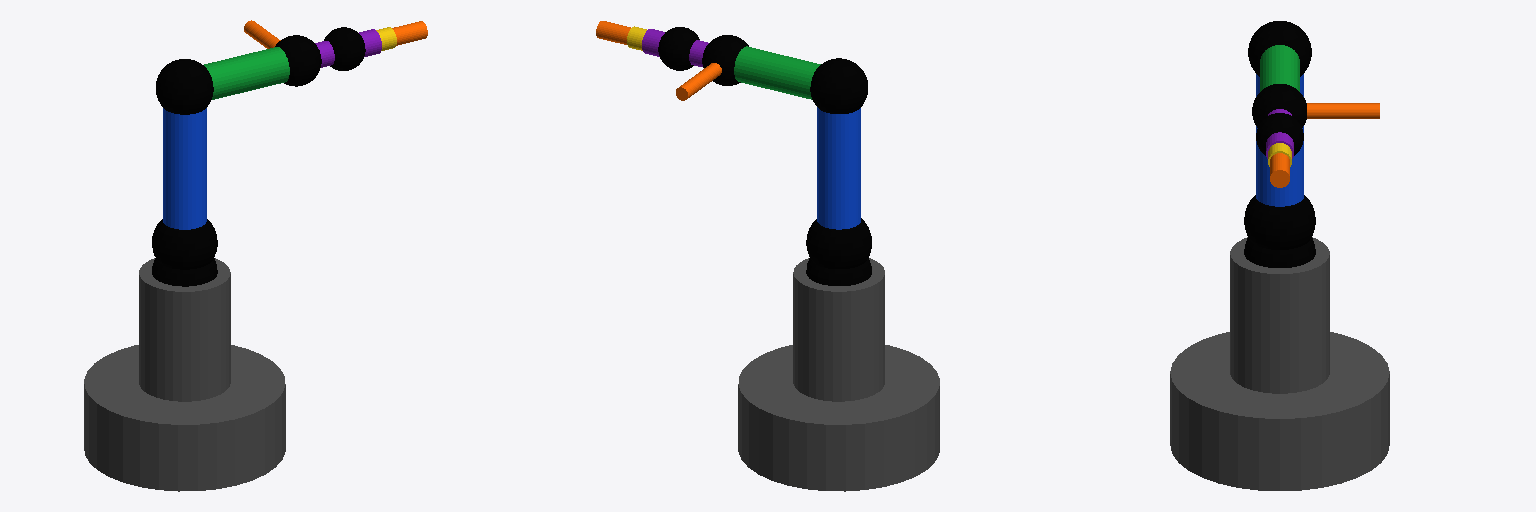
URDF robot description (robot_arm_simple_6axis):
<?xml version="1.0"?>
<robot name="robot_arm_simple_6axis">
  <!--
    Simple visualization model for the current forward-kinematics step.

    Units: meters, radians.
    Coordinate frame:
      X: forward from the base
      Y: left
      Z: up

    Measured dimensions:
      L0 = 0.106 m  base frame to shoulder pitch axis
      L1 = 0.111 m  shoulder pitch axis to elbow pitch axis
      L2 = 0.070 m  elbow pitch axis to wrist reference point
      L3 = 0.080 m  wrist reference point to tool tip, provisional

    Zero posture:
      shoulder-to-elbow link points along +Z
      elbow-to-wrist link points along +X

    Motor angle mapping used in tools/fk_3axis.py:
      base_yaw      = +ID1
      shoulder_pitch = +ID2
      upper_arm_roll = -ID6
      elbow_pitch    = -ID3
      elbow_roll     = -ID4
      wrist_pitch    = +ID5
  -->

  <material name="base_gray">
    <color rgba="0.35 0.35 0.35 1.0"/>
  </material>
  <material name="upper_arm_blue">
    <color rgba="0.1 0.35 0.9 1.0"/>
  </material>
  <material name="forearm_green">
    <color rgba="0.1 0.65 0.25 1.0"/>
  </material>
  <material name="tool_orange">
    <color rgba="1.0 0.45 0.05 1.0"/>
  </material>
  <material name="roll_purple">
    <color rgba="0.55 0.15 0.75 1.0"/>
  </material>
  <material name="wrist_yellow">
    <color rgba="0.95 0.80 0.10 1.0"/>
  </material>
  <material name="joint_black">
    <color rgba="0.03 0.03 0.03 1.0"/>
  </material>

  <link name="base_link">
    <visual>
      <origin xyz="0 0 0.02" rpy="0 0 0"/>
      <geometry>
        <cylinder radius="0.055" length="0.04"/>
      </geometry>
      <material name="base_gray"/>
    </visual>
  </link>

  <joint name="base_yaw_joint" type="revolute">
    <parent link="base_link"/>
    <child link="base_yaw_link"/>
    <origin xyz="0 0 0" rpy="0 0 0"/>
    <axis xyz="0 0 1"/>
    <limit lower="-0.785398" upper="0.785398" effort="5" velocity="0.5"/>
  </joint>

  <link name="base_yaw_link">
    <visual>
      <origin xyz="0 0 0.053" rpy="0 0 0"/>
      <geometry>
        <cylinder radius="0.025" length="0.106"/>
      </geometry>
      <material name="base_gray"/>
    </visual>
  </link>

  <joint name="shoulder_pitch_joint" type="revolute">
    <parent link="base_yaw_link"/>
    <child link="shoulder_pitch_link"/>
    <origin xyz="0 0 0.106" rpy="0 0 0"/>
    <axis xyz="0 1 0"/>
    <limit lower="-0.785398" upper="0.785398" effort="5" velocity="0.5"/>
  </joint>

  <link name="shoulder_pitch_link">
    <visual>
      <origin xyz="0 0 0" rpy="0 0 0"/>
      <geometry>
        <sphere radius="0.018"/>
      </geometry>
      <material name="joint_black"/>
    </visual>
  </link>

  <joint name="upper_arm_roll_joint" type="revolute">
    <parent link="shoulder_pitch_link"/>
    <child link="upper_arm_link"/>
    <origin xyz="0 0 0.018" rpy="0 0 0"/>
    <axis xyz="0 0 -1"/>
    <limit lower="-0.785398" upper="0.785398" effort="5" velocity="0.5"/>
  </joint>

  <link name="upper_arm_link">
    <visual>
      <origin xyz="0 0 0.0465" rpy="0 0 0"/>
      <geometry>
        <cylinder radius="0.012" length="0.093"/>
      </geometry>
      <material name="upper_arm_blue"/>
    </visual>
    <visual>
      <origin xyz="0 0 0" rpy="0 0 0"/>
      <geometry>
        <sphere radius="0.018"/>
      </geometry>
      <material name="joint_black"/>
    </visual>
  </link>

  <joint name="elbow_pitch_joint" type="revolute">
    <parent link="upper_arm_link"/>
    <child link="forearm_link"/>
    <origin xyz="0 0 0.093" rpy="0 0 0"/>
    <axis xyz="0 1 0"/>
    <limit lower="-0.785398" upper="0.785398" effort="5" velocity="0.5"/>
  </joint>

  <link name="forearm_link">
    <visual>
      <origin xyz="0.035 0 0" rpy="0 1.570796 0"/>
      <geometry>
        <cylinder radius="0.010" length="0.070"/>
      </geometry>
      <material name="forearm_green"/>
    </visual>
    <visual>
      <origin xyz="0 0 0" rpy="0 0 0"/>
      <geometry>
        <sphere radius="0.016"/>
      </geometry>
      <material name="joint_black"/>
    </visual>
  </link>

  <joint name="elbow_roll_joint" type="revolute">
    <parent link="forearm_link"/>
    <child link="elbow_roll_link"/>
    <origin xyz="0.070 0 0" rpy="0 0 0"/>
    <axis xyz="-1 0 0"/>
    <limit lower="-0.785398" upper="0.785398" effort="5" velocity="0.5"/>
  </joint>

  <link name="elbow_roll_link">
    <visual>
      <origin xyz="0 0 0" rpy="0 0 0"/>
      <geometry>
        <sphere radius="0.014"/>
      </geometry>
      <material name="joint_black"/>
    </visual>
    <visual>
      <origin xyz="0.025 0 0" rpy="0 1.570796 0"/>
      <geometry>
        <cylinder radius="0.007" length="0.050"/>
      </geometry>
      <material name="roll_purple"/>
    </visual>
    <visual>
      <origin xyz="0 0.025 0" rpy="1.570796 0 0"/>
      <geometry>
        <cylinder radius="0.004" length="0.050"/>
      </geometry>
      <material name="tool_orange"/>
    </visual>
  </link>

  <joint name="wrist_pitch_joint" type="revolute">
    <parent link="elbow_roll_link"/>
    <child link="wrist_pitch_link"/>
    <origin xyz="0.030 0 0" rpy="0 0 0"/>
    <axis xyz="0 1 0"/>
    <limit lower="-0.785398" upper="0.785398" effort="5" velocity="0.5"/>
  </joint>

  <link name="wrist_pitch_link">
    <visual>
      <origin xyz="0 0 0" rpy="0 0 0"/>
      <geometry>
        <sphere radius="0.012"/>
      </geometry>
      <material name="joint_black"/>
    </visual>
    <visual>
      <origin xyz="0.015 0 0" rpy="0 1.570796 0"/>
      <geometry>
        <cylinder radius="0.006" length="0.030"/>
      </geometry>
      <material name="wrist_yellow"/>
    </visual>
  </link>

  <joint name="tool_tip_fixed_joint" type="fixed">
    <parent link="wrist_pitch_link"/>
    <child link="tool_tip_link"/>
    <origin xyz="0.050 0 0" rpy="0 0 0"/>
  </joint>

  <link name="tool_tip_link">
    <visual>
      <origin xyz="-0.025 0 0" rpy="0 1.570796 0"/>
      <geometry>
        <cylinder radius="0.005" length="0.050"/>
      </geometry>
      <material name="tool_orange"/>
    </visual>
  </link>
</robot>

--- What the picture shows (computed from the rendered views, not written in the file) ---
Views: 3 orthographic renders of the robot side by side, from view 1: azimuth 30°, elevation 25°; view 2: azimuth 150°, elevation 25°; view 3: azimuth 270°, elevation 25°.
Robot: robot_arm_simple_6axis — 8 links, 7 joints (6 revolute, 1 fixed); root link base_link; default pose: all joints at 0.
Visible links, largest first — view 1: base_link, base_yaw_link, upper_arm_link, forearm_link, elbow_roll_link, wrist_pitch_link, shoulder_pitch_link, tool_tip_link; view 2: base_link, base_yaw_link, upper_arm_link, forearm_link, elbow_roll_link, wrist_pitch_link, shoulder_pitch_link, tool_tip_link; view 3: base_link, base_yaw_link, upper_arm_link, forearm_link, elbow_roll_link, wrist_pitch_link, shoulder_pitch_link, tool_tip_link.
Boxes of the visible links, bbox=[...] form: base_link: bbox=[84, 345, 285, 491]; base_yaw_link: bbox=[139, 258, 230, 401]; upper_arm_link: bbox=[152, 108, 217, 269]; forearm_link: bbox=[156, 47, 289, 114]; elbow_roll_link: bbox=[244, 20, 381, 86]; wrist_pitch_link: bbox=[324, 27, 396, 70]; shoulder_pitch_link: bbox=[152, 258, 217, 286]; tool_tip_link: bbox=[392, 21, 427, 45]; base_link: bbox=[738, 345, 939, 491]; base_yaw_link: bbox=[793, 258, 884, 401]; upper_arm_link: bbox=[806, 107, 871, 268]; forearm_link: bbox=[734, 46, 867, 113]; elbow_roll_link: bbox=[642, 29, 748, 100]; wrist_pitch_link: bbox=[627, 26, 699, 70]; shoulder_pitch_link: bbox=[806, 257, 871, 285]; tool_tip_link: bbox=[596, 21, 630, 44]; base_link: bbox=[1170, 332, 1389, 490]; base_yaw_link: bbox=[1230, 237, 1329, 393]; upper_arm_link: bbox=[1244, 74, 1315, 249]; forearm_link: bbox=[1248, 21, 1311, 91]; elbow_roll_link: bbox=[1252, 84, 1379, 158]; wrist_pitch_link: bbox=[1256, 113, 1303, 166]; shoulder_pitch_link: bbox=[1244, 238, 1315, 267]; tool_tip_link: bbox=[1270, 153, 1289, 187].
Bounding box of the posed robot: 0.205 × 0.11 × 0.233 m (x, y, z).
Geometry: primitives only (box / cylinder / sphere), no mesh files.
